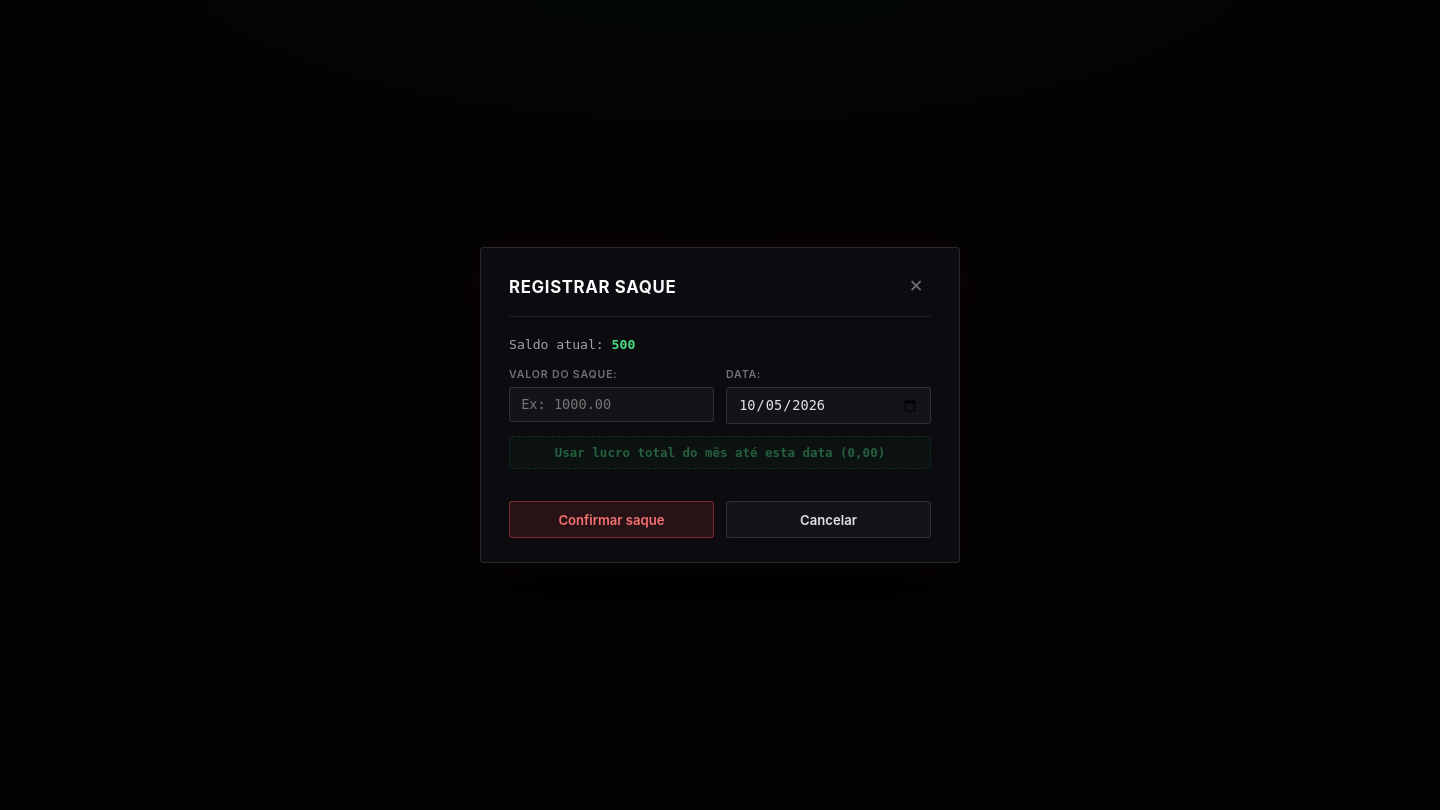
Test: WithdrawModal › recusa saque acima do saldo
In the field with id "saque-valor": (612, 404) [509,387,714,422], type "1000"
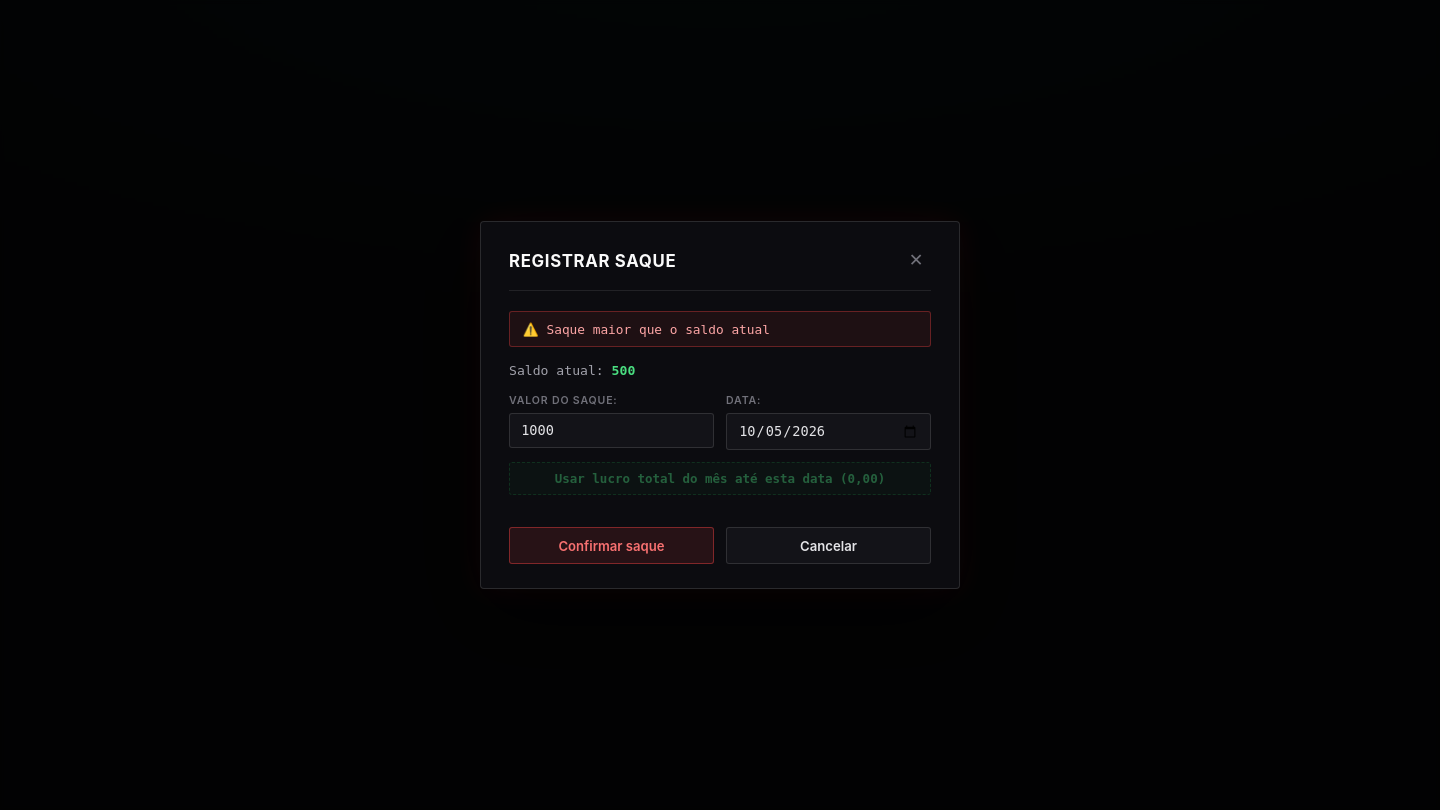
Now the text "maior que o saldo" is shown, box [546,322,770,336]
